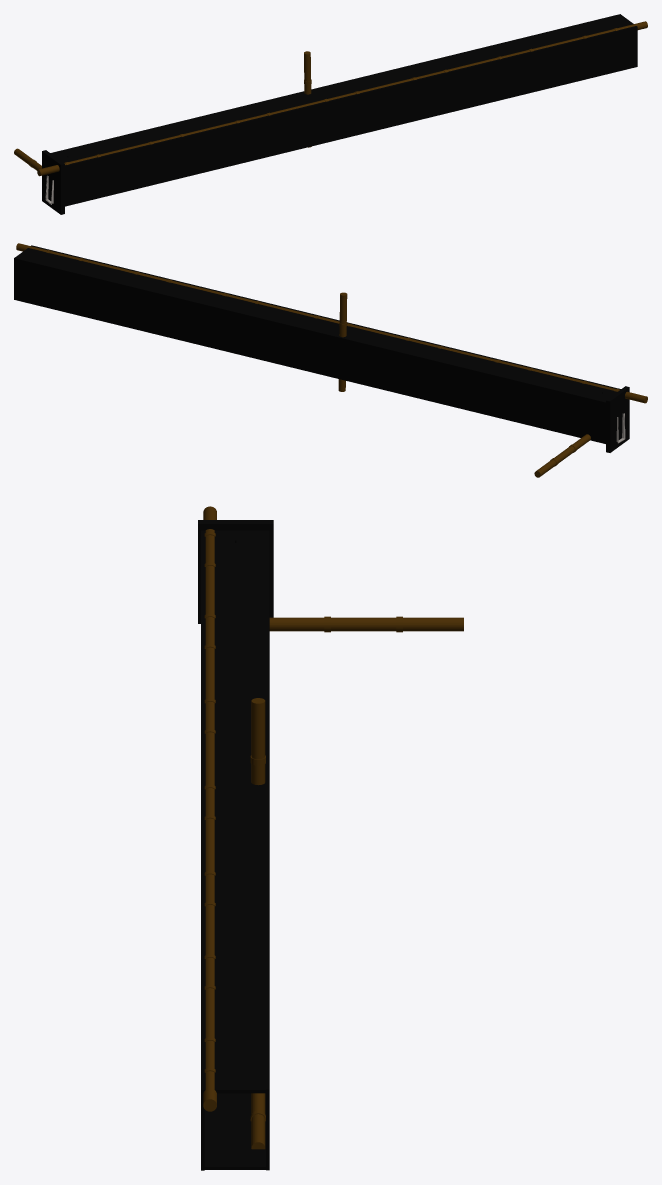
The model's file is menu.glb.
The picture shows the model from 3 angles, top to bottom: view 1: azimuth 30°, elevation 25°; view 2: azimuth 150°, elevation 25°; view 3: azimuth 270°, elevation 25°; orthographic projection. The views are drawn at different scales.
Visible parts, largest first — view 1: Cube.005, Cube.007, Cube.008, Cube.006, Cylinder.007, Cylinder.015, Cylinder.016; view 2: Cube.006, Cube.007, Cube.008, Cube.005, Cylinder.005, Cylinder.015, Cylinder.007; view 3: Cube.007, Cube, Cylinder.005, Cube.006, Cube.005, Cube.008, Cylinder.015, Cylinder.016.
Boxes of the visible parts, x1,y1,x2,y2 form: Cube.005: [65, 26, 637, 206]; Cube.007: [51, 15, 635, 165]; Cube.008: [42, 150, 64, 214]; Cube.006: [50, 14, 620, 153]; Cylinder.007: [37, 149, 124, 176]; Cylinder.015: [304, 51, 311, 147]; Cylinder.016: [556, 21, 647, 44]; Cube.006: [14, 257, 605, 443]; Cube.007: [15, 246, 616, 401]; Cube.008: [606, 386, 629, 452]; Cube.005: [31, 245, 620, 389]; Cylinder.005: [534, 434, 590, 477]; Cylinder.015: [338, 292, 347, 391]; Cylinder.007: [552, 374, 647, 403]; Cube.007: [204, 530, 265, 1093]; Cube: [204, 1093, 266, 1169]; Cylinder.005: [269, 616, 463, 632]; Cube.006: [266, 530, 269, 1170]; Cube.005: [201, 530, 204, 1170]; Cube.008: [198, 520, 273, 623]; Cylinder.015: [250, 698, 265, 785]; Cylinder.016: [203, 1012, 216, 1111].
Bounding box in the file's own units: 56.19 × 8.28 × 10.67.
